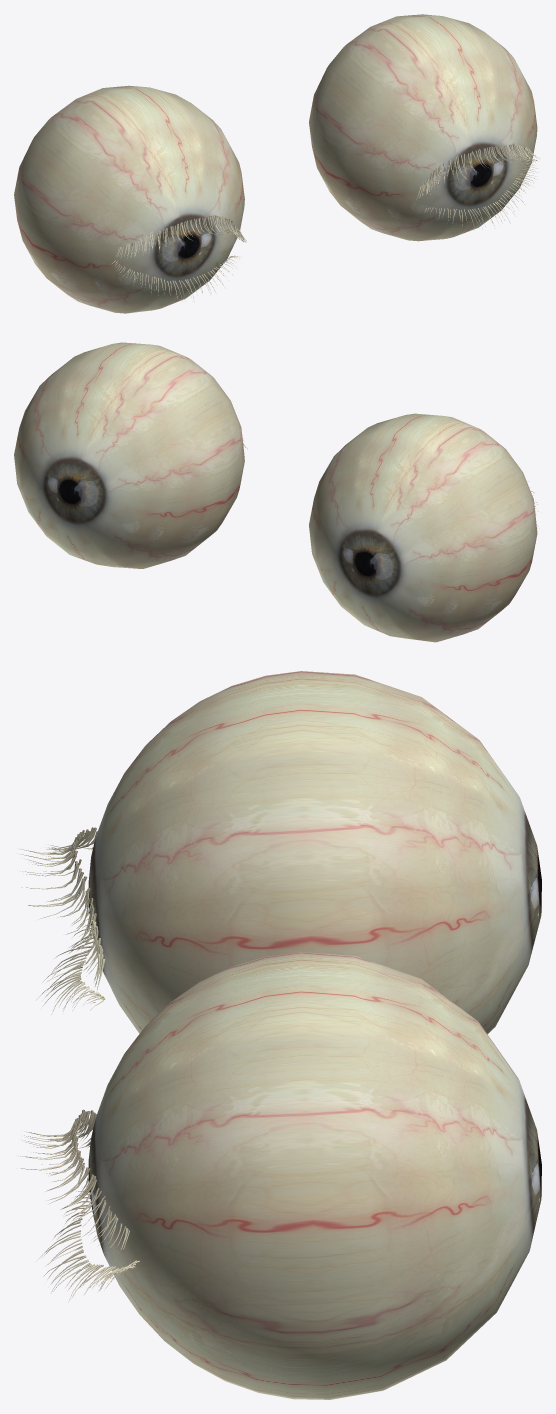
File: male_kid_eyes.gltf
3 views of the same model, one above another, from view 1: azimuth 30°, elevation 25°; view 2: azimuth 150°, elevation 25°; view 3: azimuth 270°, elevation 25° (orthographic). The views are drawn at different scales.
Parts seen in each view (by area): view 1: male_kid_eyes; view 2: male_kid_eyes; view 3: male_kid_eyes.
Part boxes in pixels (bbox=[...]): male_kid_eyes: bbox=[14, 14, 537, 313]; male_kid_eyes: bbox=[14, 342, 537, 642]; male_kid_eyes: bbox=[18, 671, 541, 1399].
Bounding box in the file's own units: 10.13 × 4.05 × 4.77.
1 material, 1 textured.
